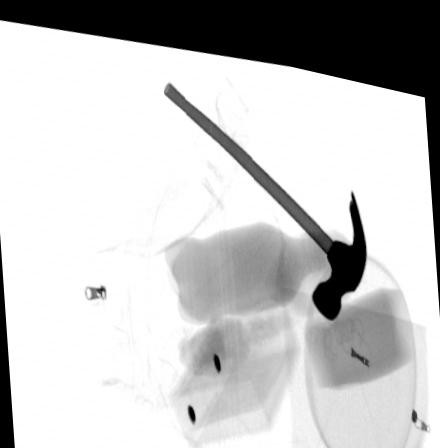Hammer: (163, 73, 369, 306)
